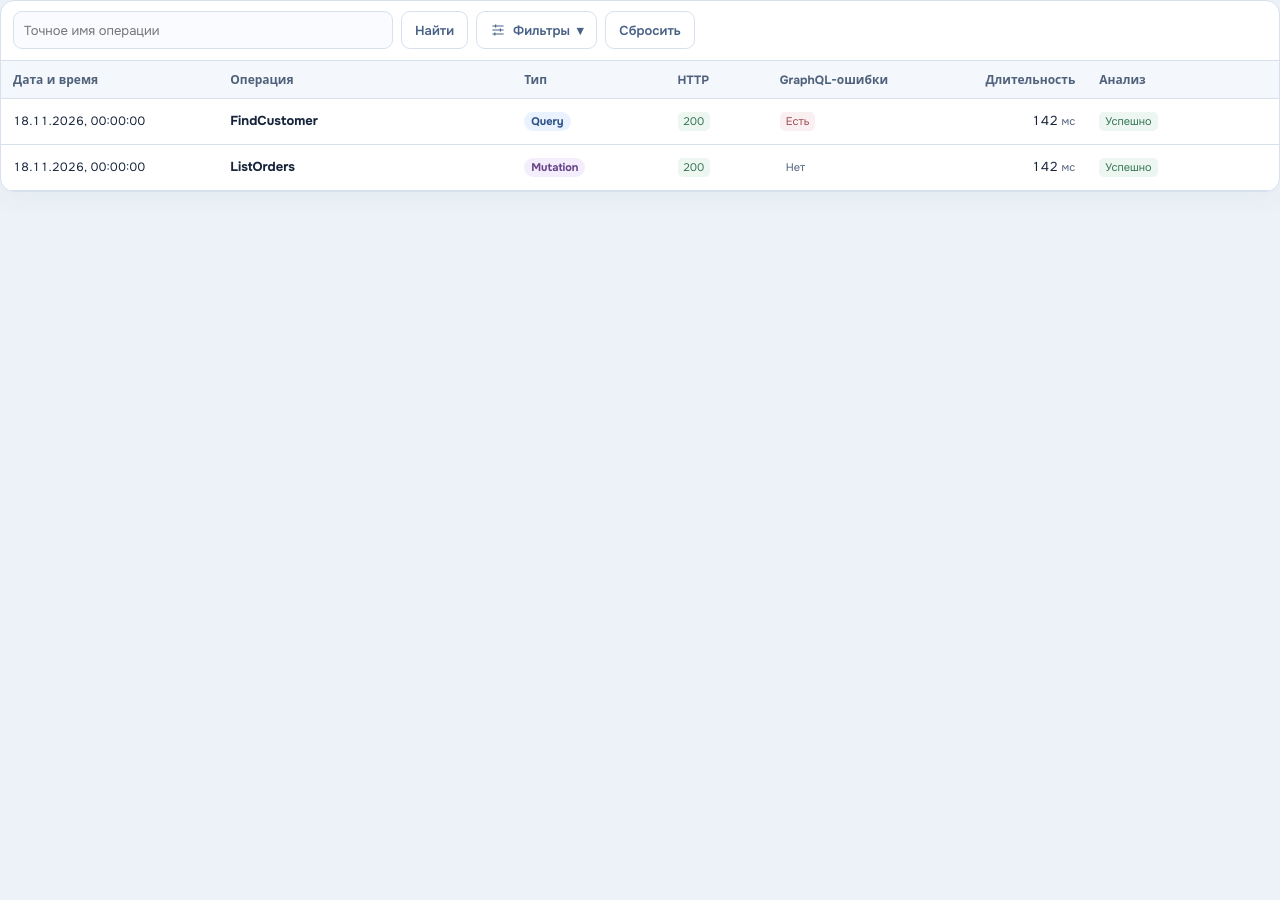
Scenario: loads details on selection and keeps metrics above lazy tabs
What coordinates should you click on to do the following:
click the button "FindCustomer"
I would click on:
 (274, 122)
Its box is [230,112,318,131].
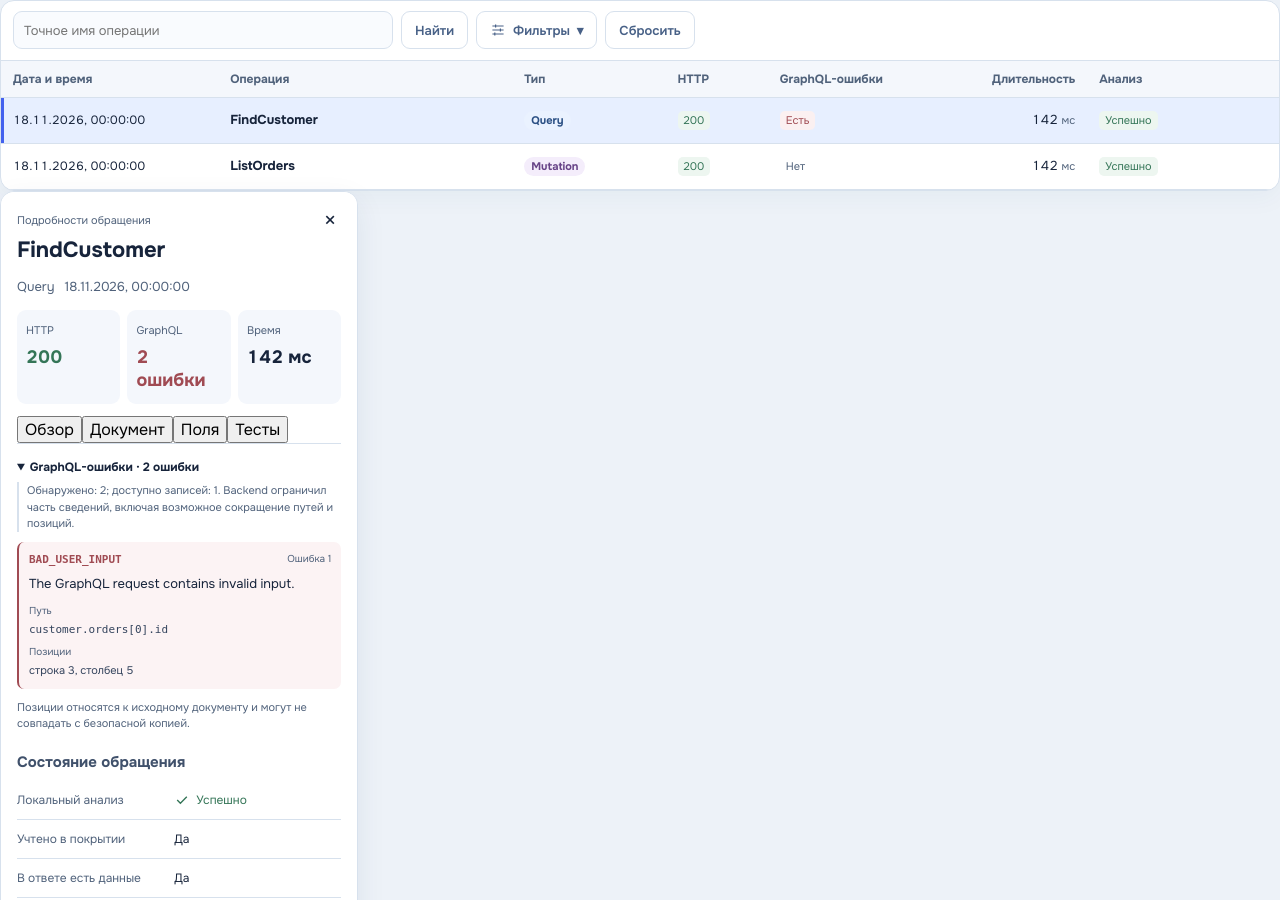
Check: the heading "FindCustomer" is shown, box [17,236,165,264]
Check: the header shows "Query", box [17,278,54,295]
Check: the tab "Обзор" is shown, box [17,416,82,443]
